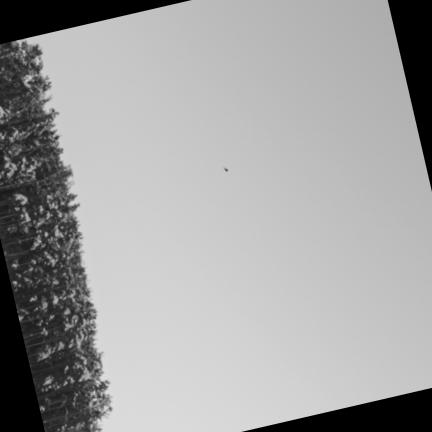Shahed: (223, 167, 227, 171)
